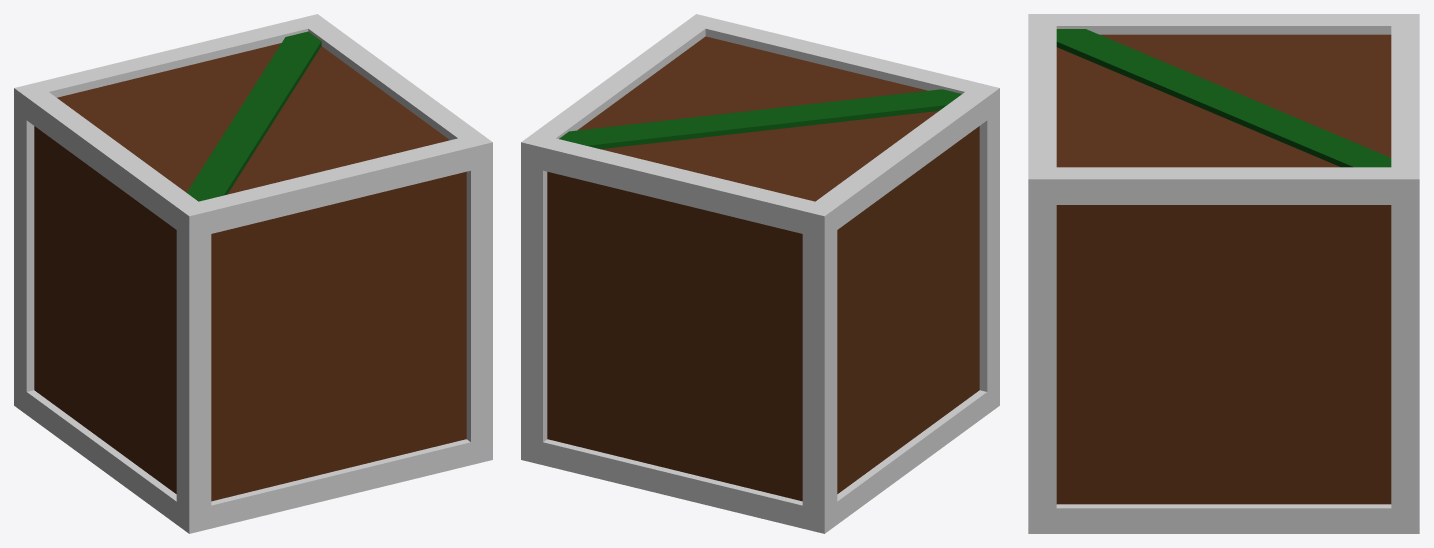
Rendered from Crate.fbx.
3 renders of one model, left to right at view 1: azimuth 30°, elevation 25°; view 2: azimuth 150°, elevation 25°; view 3: azimuth 270°, elevation 25°, orthographic. The views are drawn at different scales.
Visible parts, largest first — view 1: Cube; view 2: Cube; view 3: Cube.
Boxes of the visible parts, box(x1,y1,x2,y2) form: Cube: box(14, 14, 492, 533); Cube: box(521, 14, 999, 533); Cube: box(1028, 14, 1419, 533).
Bounding box in the file's own units: 676 × 676 × 676.
